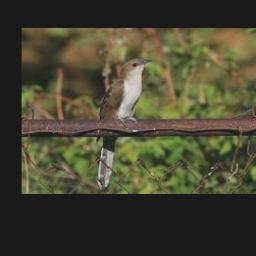Cuckoo: (97, 58, 153, 189)
